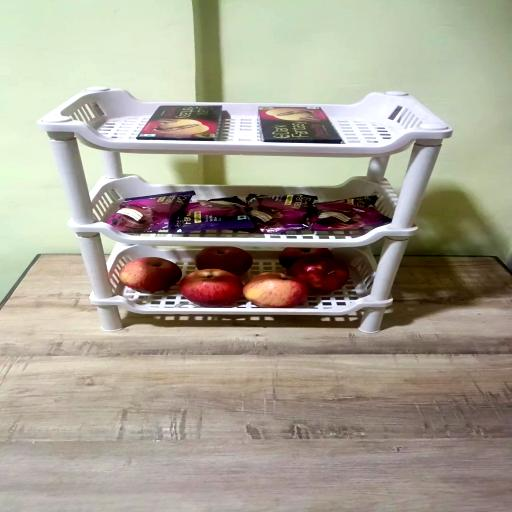Apple: (180, 269, 242, 307), (243, 272, 308, 308), (120, 257, 182, 293), (288, 257, 349, 293), (195, 246, 252, 276), (279, 248, 333, 268)
Choco Fills: (259, 107, 344, 144), (137, 105, 221, 141)
Choco Pie: (107, 190, 194, 234), (169, 196, 254, 233), (310, 195, 391, 231), (247, 194, 317, 234)
